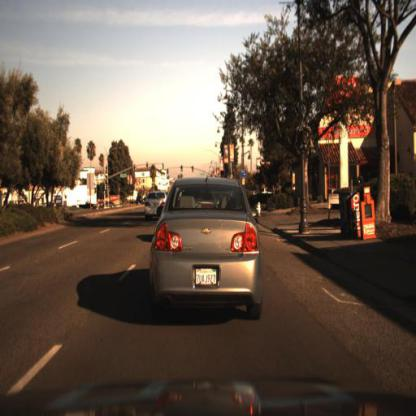car: (143, 166, 267, 325), (144, 188, 169, 226)
